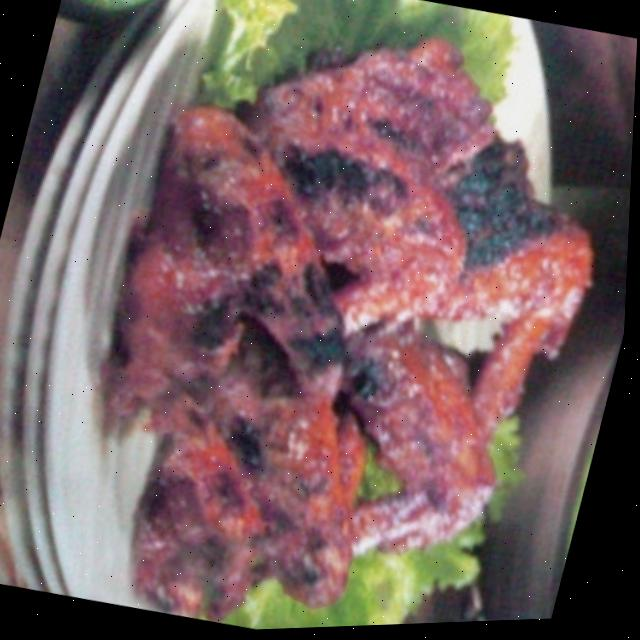鸡肉料理 含炸鸡: (15, 0, 639, 639)
